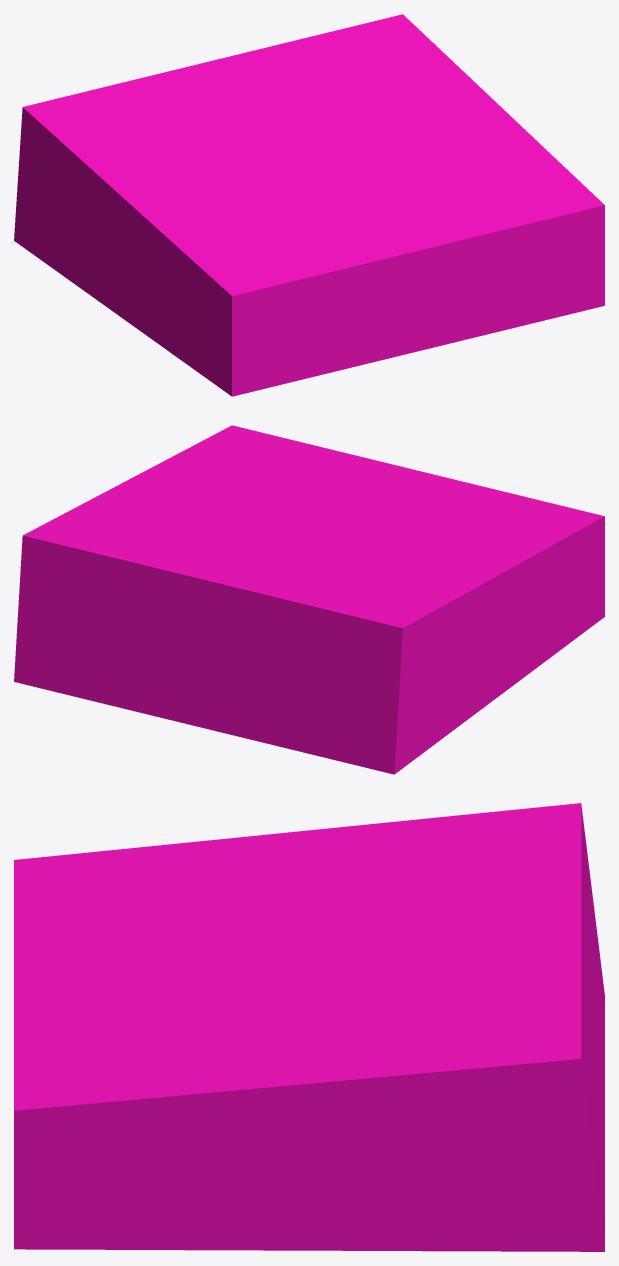
Rendered from study_pillow_2_meshCollider.fbx.
3 views of the same model, one above another, from view 1: azimuth 30°, elevation 25°; view 2: azimuth 150°, elevation 25°; view 3: azimuth 270°, elevation 25° (orthographic). The views are drawn at different scales.
Visible parts, largest first — view 1: study_pillow_2_meshCollider; view 2: study_pillow_2_meshCollider; view 3: study_pillow_2_meshCollider.
Part boxes in pixels (box(x1,y1,x2,y2)): study_pillow_2_meshCollider: box(14, 14, 604, 396); study_pillow_2_meshCollider: box(14, 425, 604, 774); study_pillow_2_meshCollider: box(14, 803, 604, 1251).
Size of the model in its own units: 31.52 by 11.09 by 30.77.
